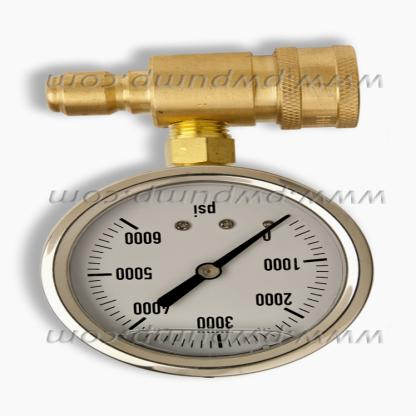needle: (209, 212, 294, 270)
